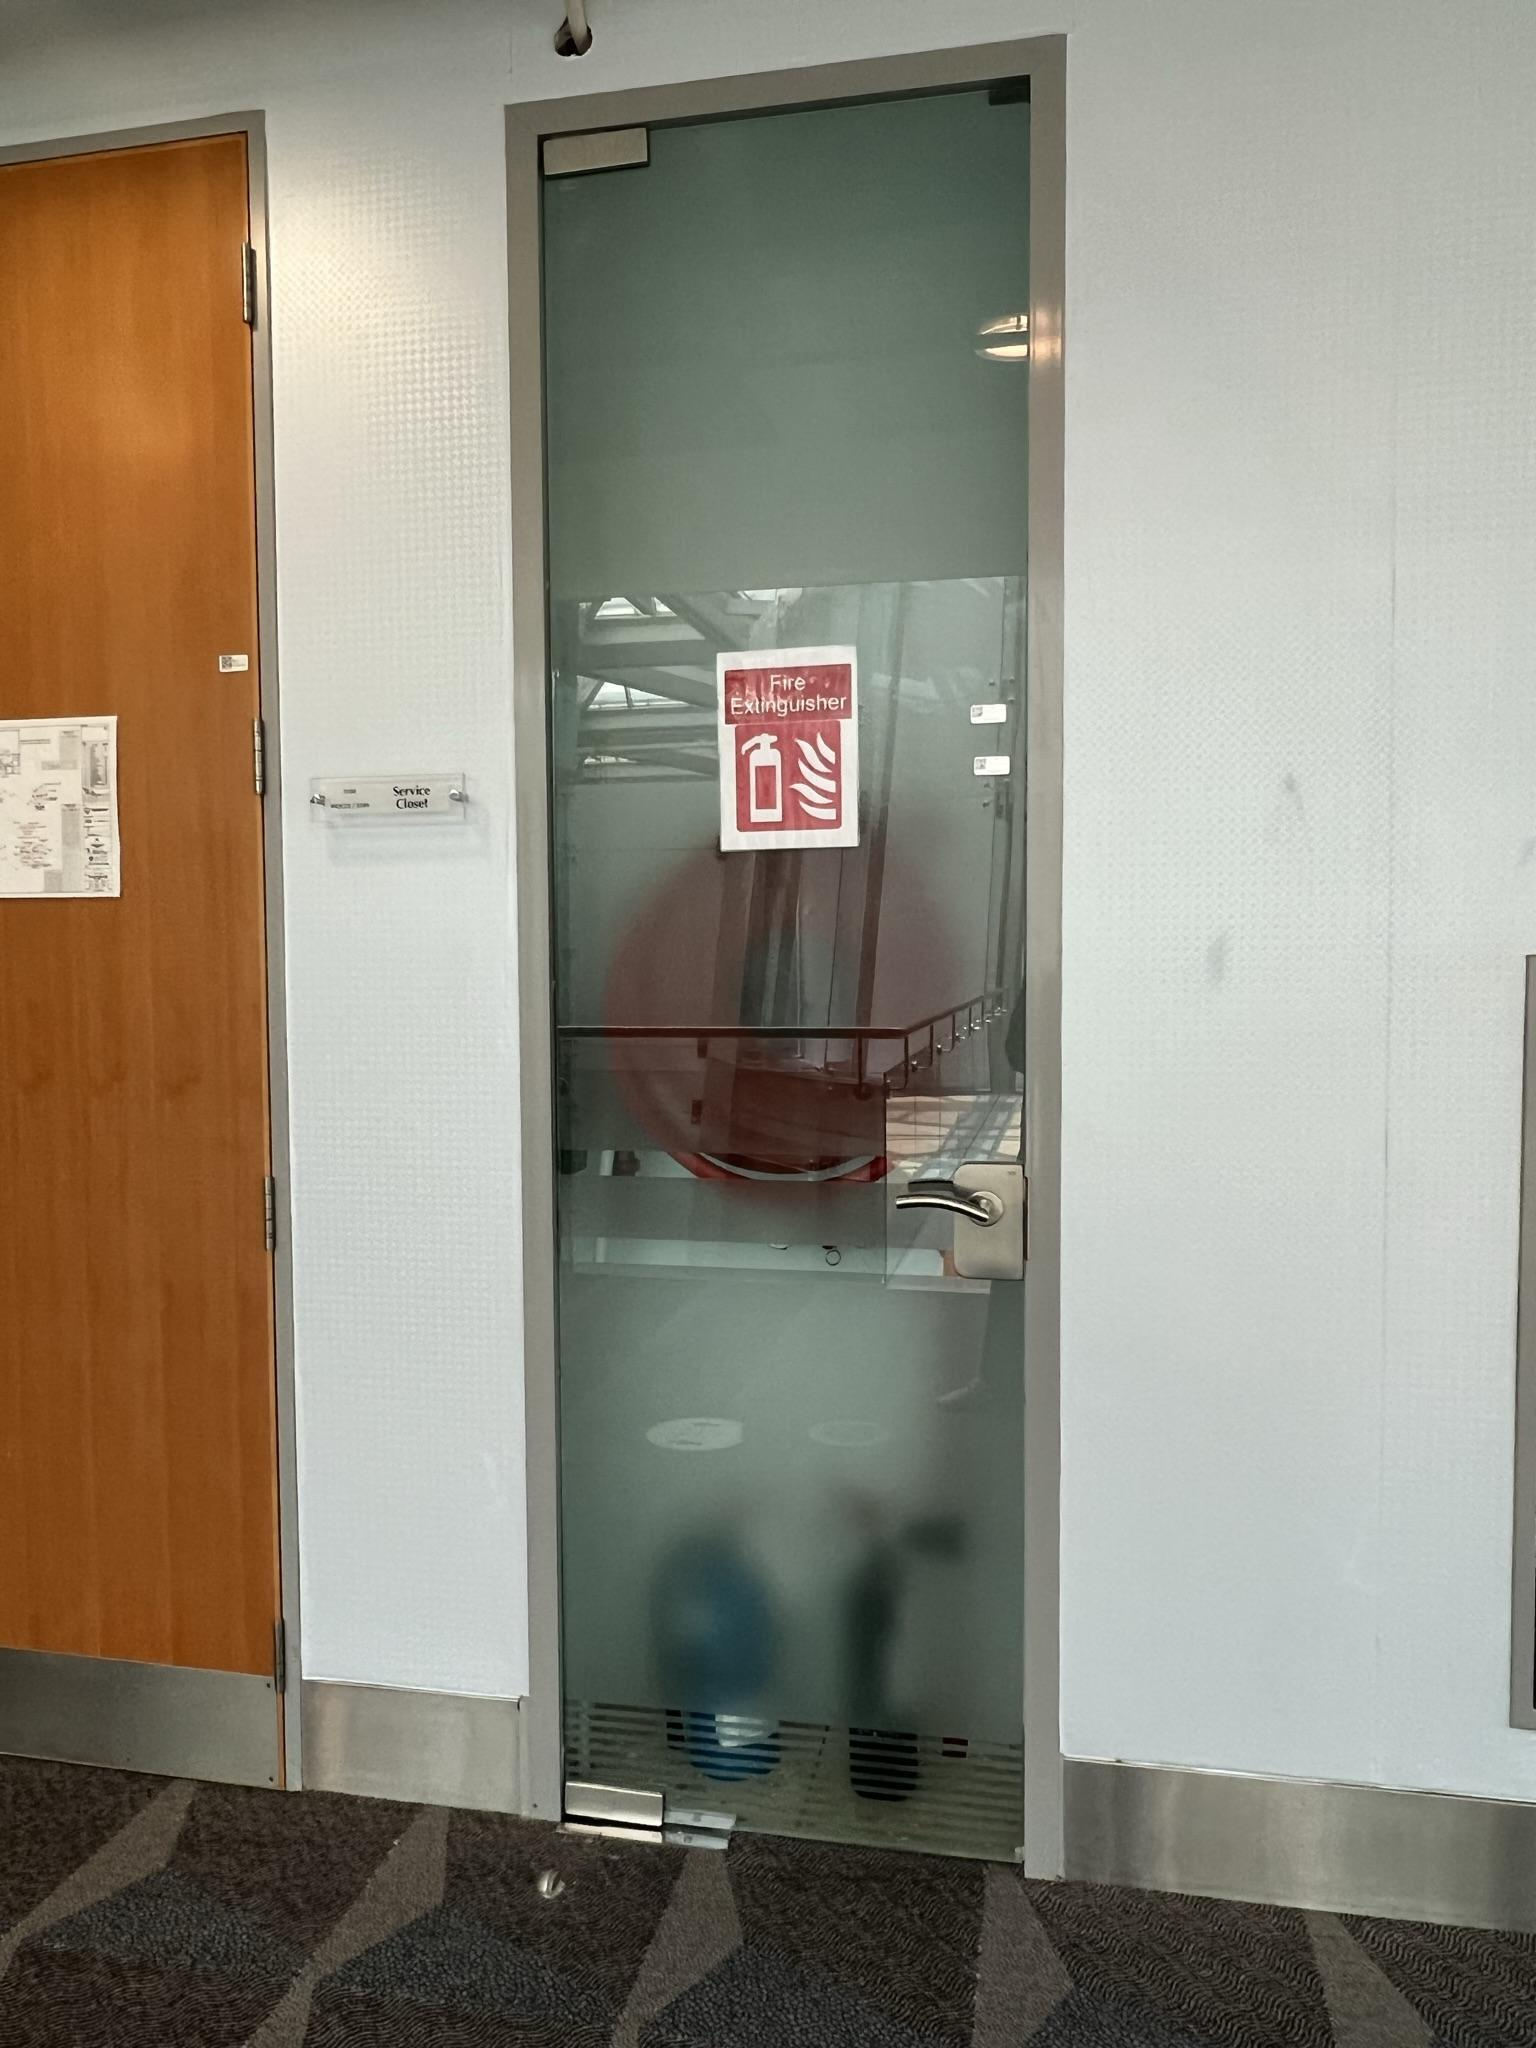door: (523, 61, 1073, 1892), (0, 126, 321, 1782)
handle: (887, 1161, 1049, 1290)
